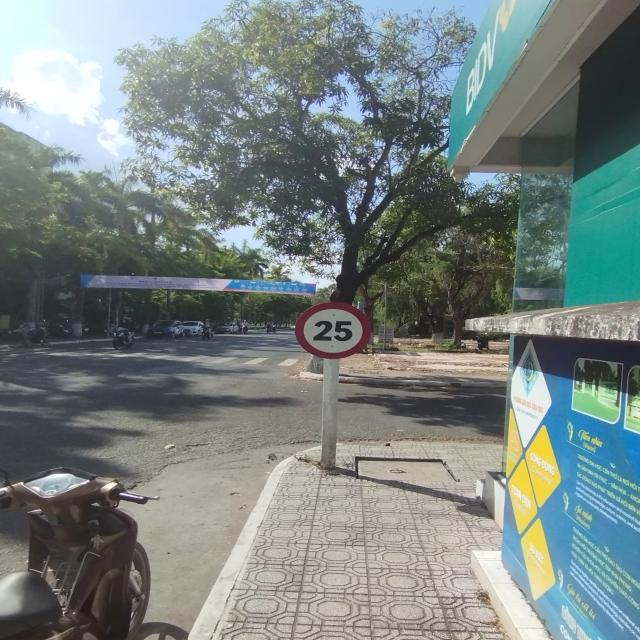Tre_Em: (294, 301, 372, 360)
